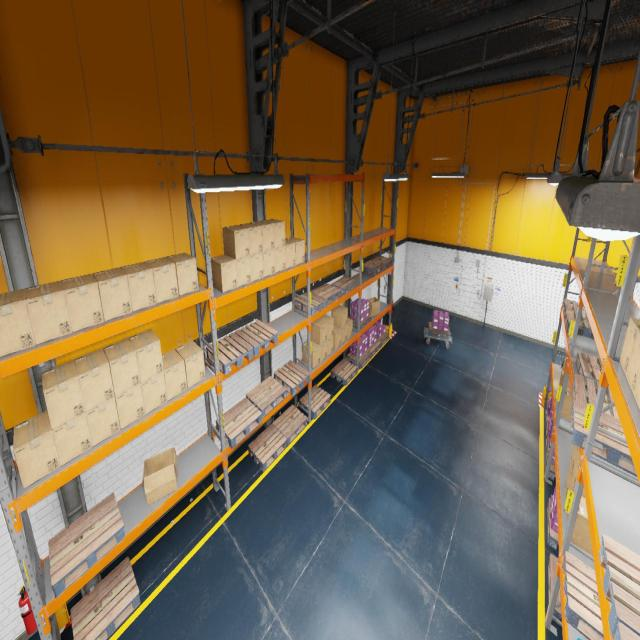box: (13, 410, 60, 489), (41, 360, 86, 430), (25, 280, 72, 345), (74, 348, 114, 412), (61, 274, 104, 332), (0, 288, 35, 357), (103, 338, 141, 396), (92, 267, 132, 321), (52, 413, 92, 466), (142, 447, 177, 505), (128, 329, 164, 383), (120, 262, 156, 312), (86, 397, 120, 447), (144, 258, 179, 304), (568, 492, 592, 556), (175, 340, 205, 388), (166, 252, 198, 296), (115, 383, 145, 429), (162, 349, 187, 401), (620, 317, 640, 376), (141, 372, 167, 414), (211, 255, 237, 293), (222, 225, 250, 259), (626, 330, 640, 395), (238, 223, 262, 255), (250, 221, 274, 251), (262, 219, 285, 248), (567, 474, 582, 518), (572, 447, 585, 497), (285, 237, 305, 265), (302, 340, 320, 369), (236, 256, 251, 287), (311, 318, 327, 344), (250, 252, 263, 282), (331, 304, 347, 328), (561, 387, 572, 421), (319, 314, 333, 340), (263, 249, 275, 277), (274, 246, 286, 273), (286, 240, 296, 268), (565, 459, 572, 498), (366, 297, 380, 316), (334, 324, 347, 344), (563, 358, 570, 388), (634, 374, 640, 409), (571, 444, 578, 473), (334, 325, 342, 349), (320, 340, 327, 362), (327, 335, 333, 356), (347, 318, 352, 339), (561, 379, 570, 388), (559, 370, 564, 386), (561, 357, 566, 370)
pallets: (48, 493, 125, 597), (70, 556, 140, 640), (571, 400, 637, 476), (598, 534, 640, 638), (562, 551, 604, 640), (216, 397, 262, 449), (572, 373, 619, 419), (206, 333, 253, 375), (248, 424, 287, 471), (246, 376, 286, 418), (235, 320, 278, 356), (575, 352, 609, 395), (272, 405, 307, 445), (274, 360, 310, 396), (300, 385, 330, 419), (548, 554, 561, 624), (296, 291, 328, 316), (565, 310, 592, 337), (310, 283, 342, 305), (331, 359, 357, 385), (547, 498, 558, 550), (613, 622, 640, 640), (347, 350, 371, 369), (331, 277, 356, 295), (563, 299, 587, 317), (347, 314, 371, 330), (428, 322, 450, 339), (546, 443, 555, 480), (362, 260, 384, 275), (370, 255, 393, 269), (366, 340, 380, 357), (376, 331, 390, 347), (546, 402, 551, 427), (546, 421, 549, 449)
